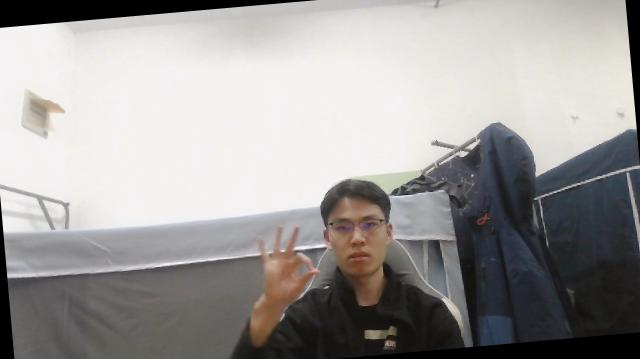ok: (252, 221, 320, 298)
